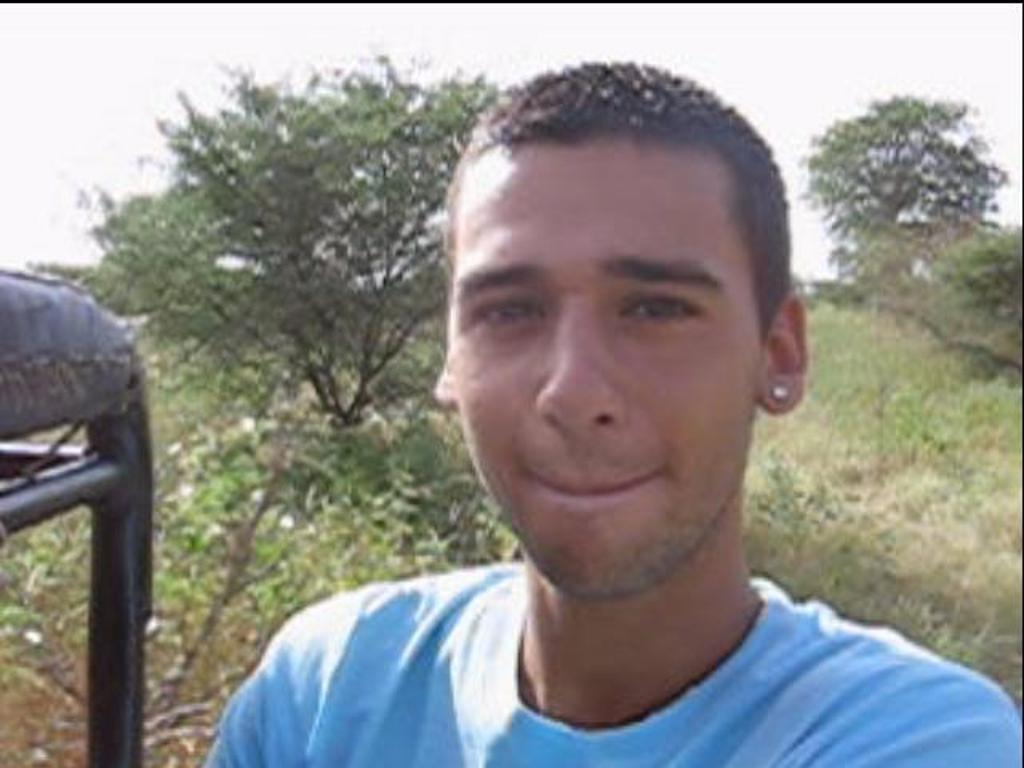face: (456, 136, 756, 594)
